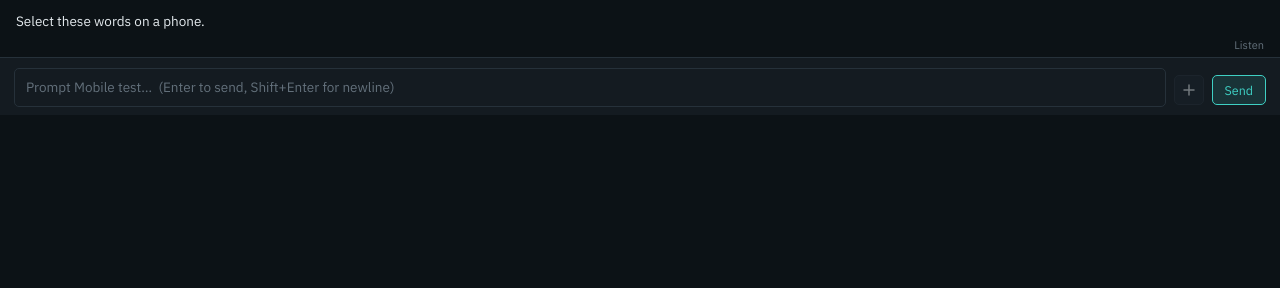
Test: TranscriptPane voice rendering › requests and exposes audio controls for a completed agent message
Click the button "Listen".
click(1249, 46)  # box [1234,35,1264,57]
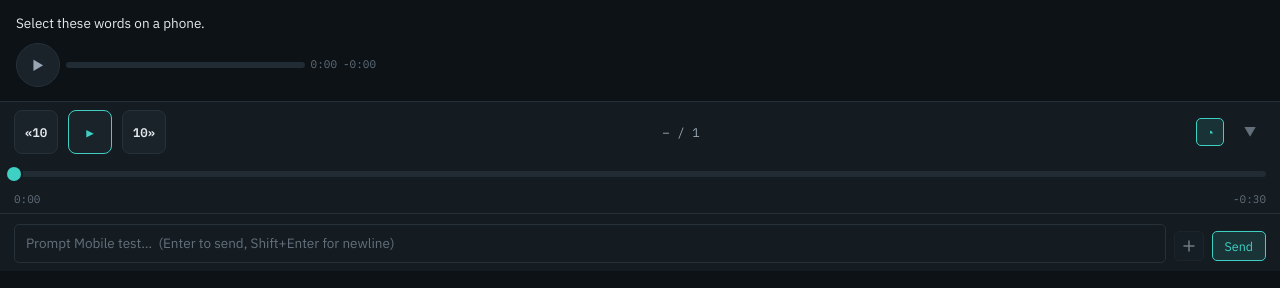
Result: the button named "Play response audio" is shown at [16,43,60,87]
